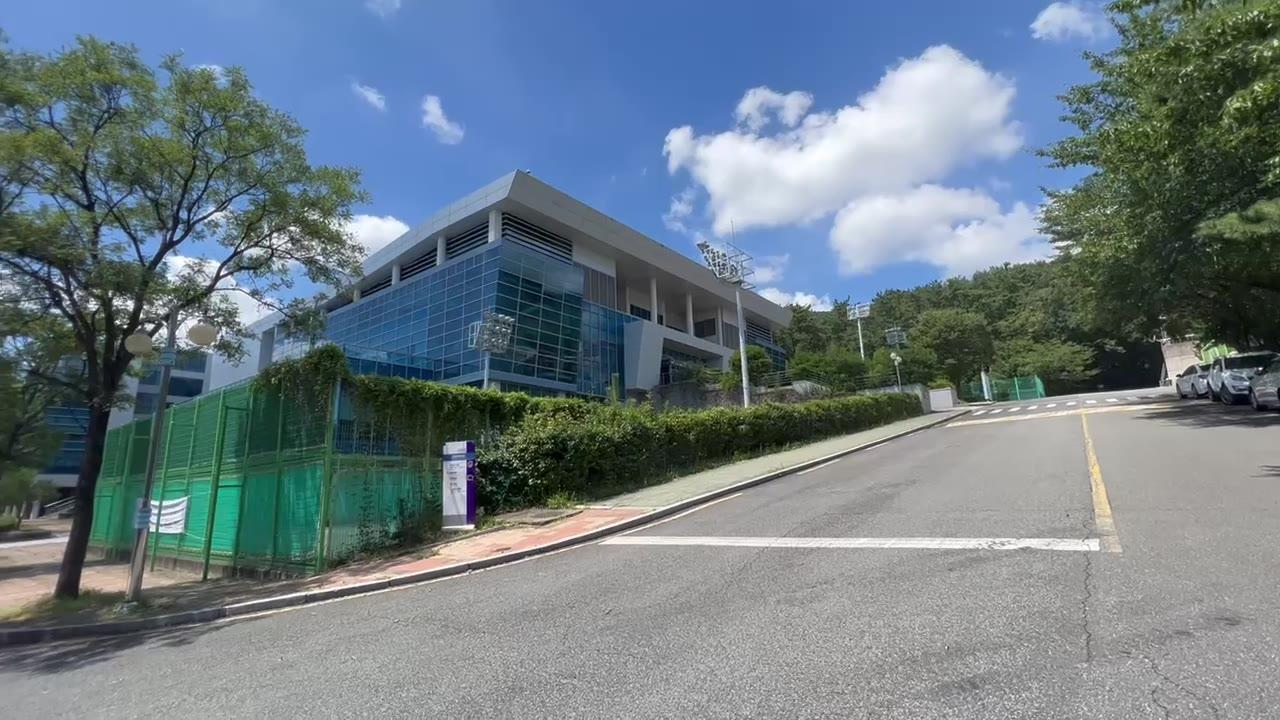building: (409, 171, 766, 384)
